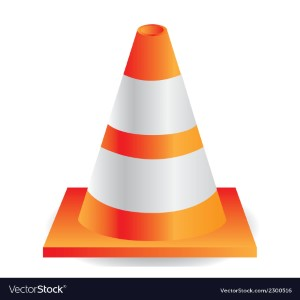traffic cone: (43, 24, 256, 258)
